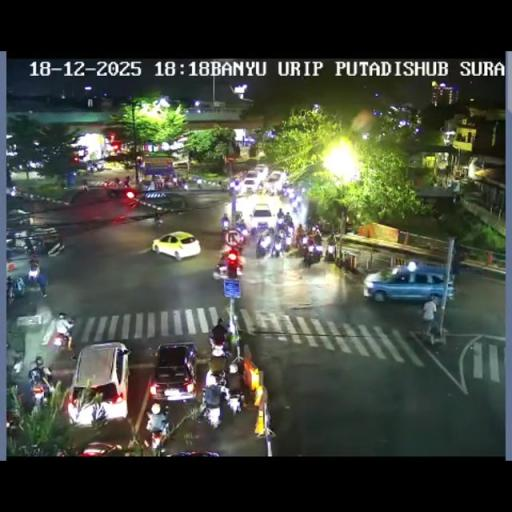Car: (67, 342, 130, 424), (363, 264, 455, 302), (149, 342, 198, 404), (150, 230, 200, 260), (138, 191, 186, 212), (76, 441, 124, 456), (250, 202, 274, 228), (106, 184, 134, 198), (241, 175, 261, 194), (254, 164, 267, 174)
Motorcycle: (222, 206, 320, 264), (144, 405, 170, 450), (197, 391, 224, 428), (28, 370, 54, 408), (206, 334, 231, 362), (204, 363, 228, 392), (4, 409, 22, 446), (28, 262, 47, 297), (50, 323, 72, 353), (225, 384, 243, 416), (6, 274, 26, 302), (303, 240, 322, 266), (230, 226, 248, 248), (255, 231, 270, 257), (212, 258, 229, 280), (270, 233, 284, 257), (10, 354, 24, 376), (23, 238, 34, 256), (290, 198, 301, 216), (140, 178, 153, 192), (276, 216, 286, 234), (278, 184, 290, 199), (29, 250, 38, 270), (325, 244, 335, 261), (174, 176, 186, 190), (233, 209, 243, 225), (312, 230, 322, 246), (220, 218, 230, 233), (282, 234, 290, 252), (295, 231, 304, 247), (326, 232, 336, 246), (153, 214, 164, 226), (266, 183, 276, 196), (164, 176, 174, 189), (250, 222, 259, 236), (284, 218, 294, 230), (86, 162, 96, 173), (80, 180, 90, 191), (7, 186, 17, 196), (220, 180, 228, 191), (277, 208, 284, 219), (268, 226, 274, 238), (196, 178, 202, 189), (122, 180, 130, 188), (102, 179, 110, 187)
